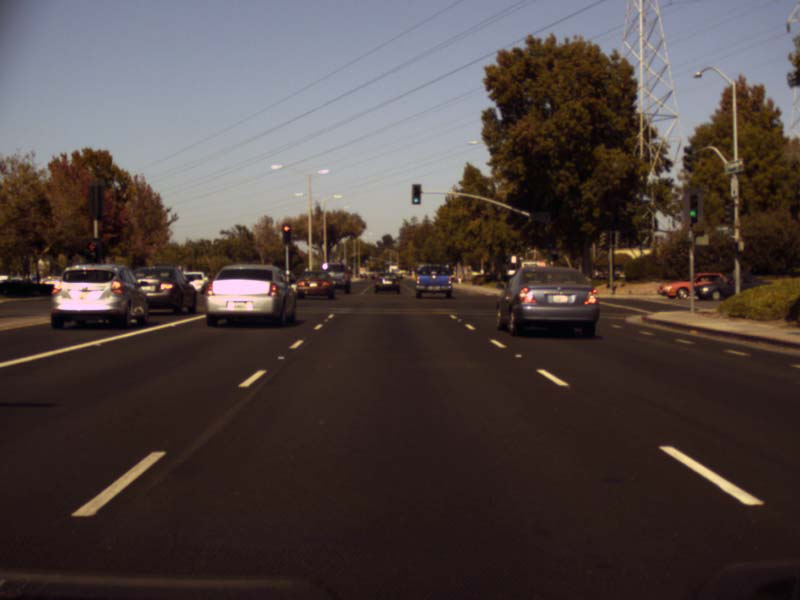Green: (688, 193, 698, 222), (410, 182, 421, 204), (547, 234, 554, 248)
Red: (86, 237, 99, 272), (282, 223, 291, 245)
